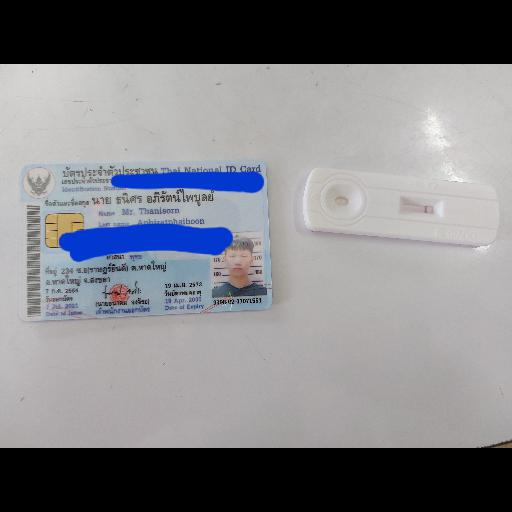Neg: (300, 167, 501, 246)
